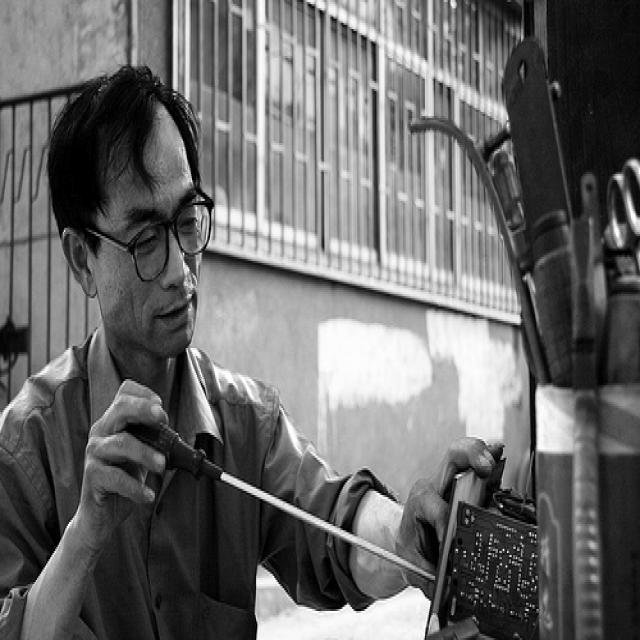screwdriver: (104, 403, 443, 610)
